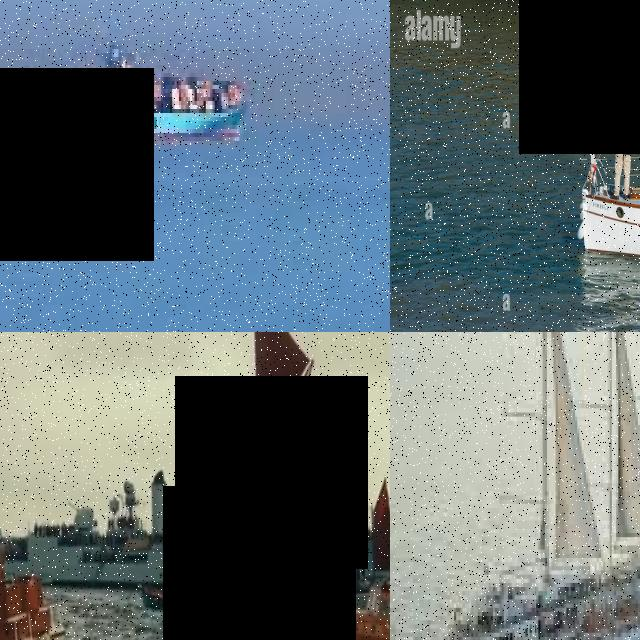boat: (559, 1, 640, 310), (1, 512, 82, 640), (290, 549, 391, 640)
cargo ship: (1, 31, 258, 173)
sailing boat: (391, 333, 640, 640), (206, 333, 318, 625)
warship: (1, 445, 391, 595)
